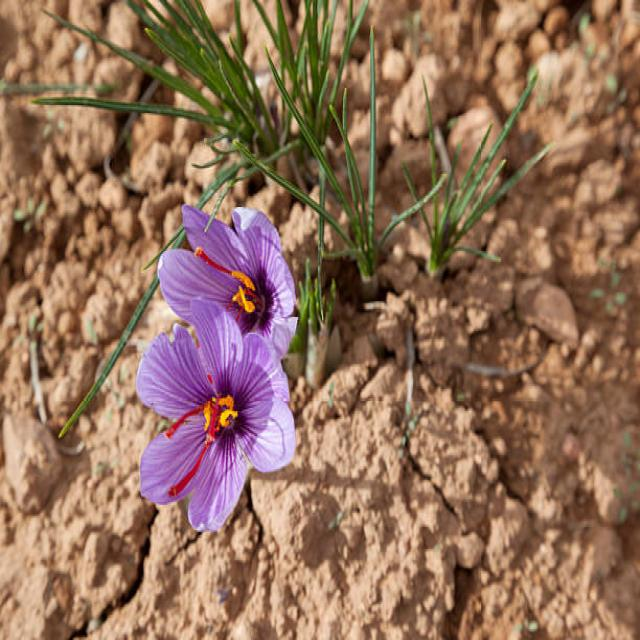saffron open: (138, 302, 295, 531), (159, 207, 296, 360)
